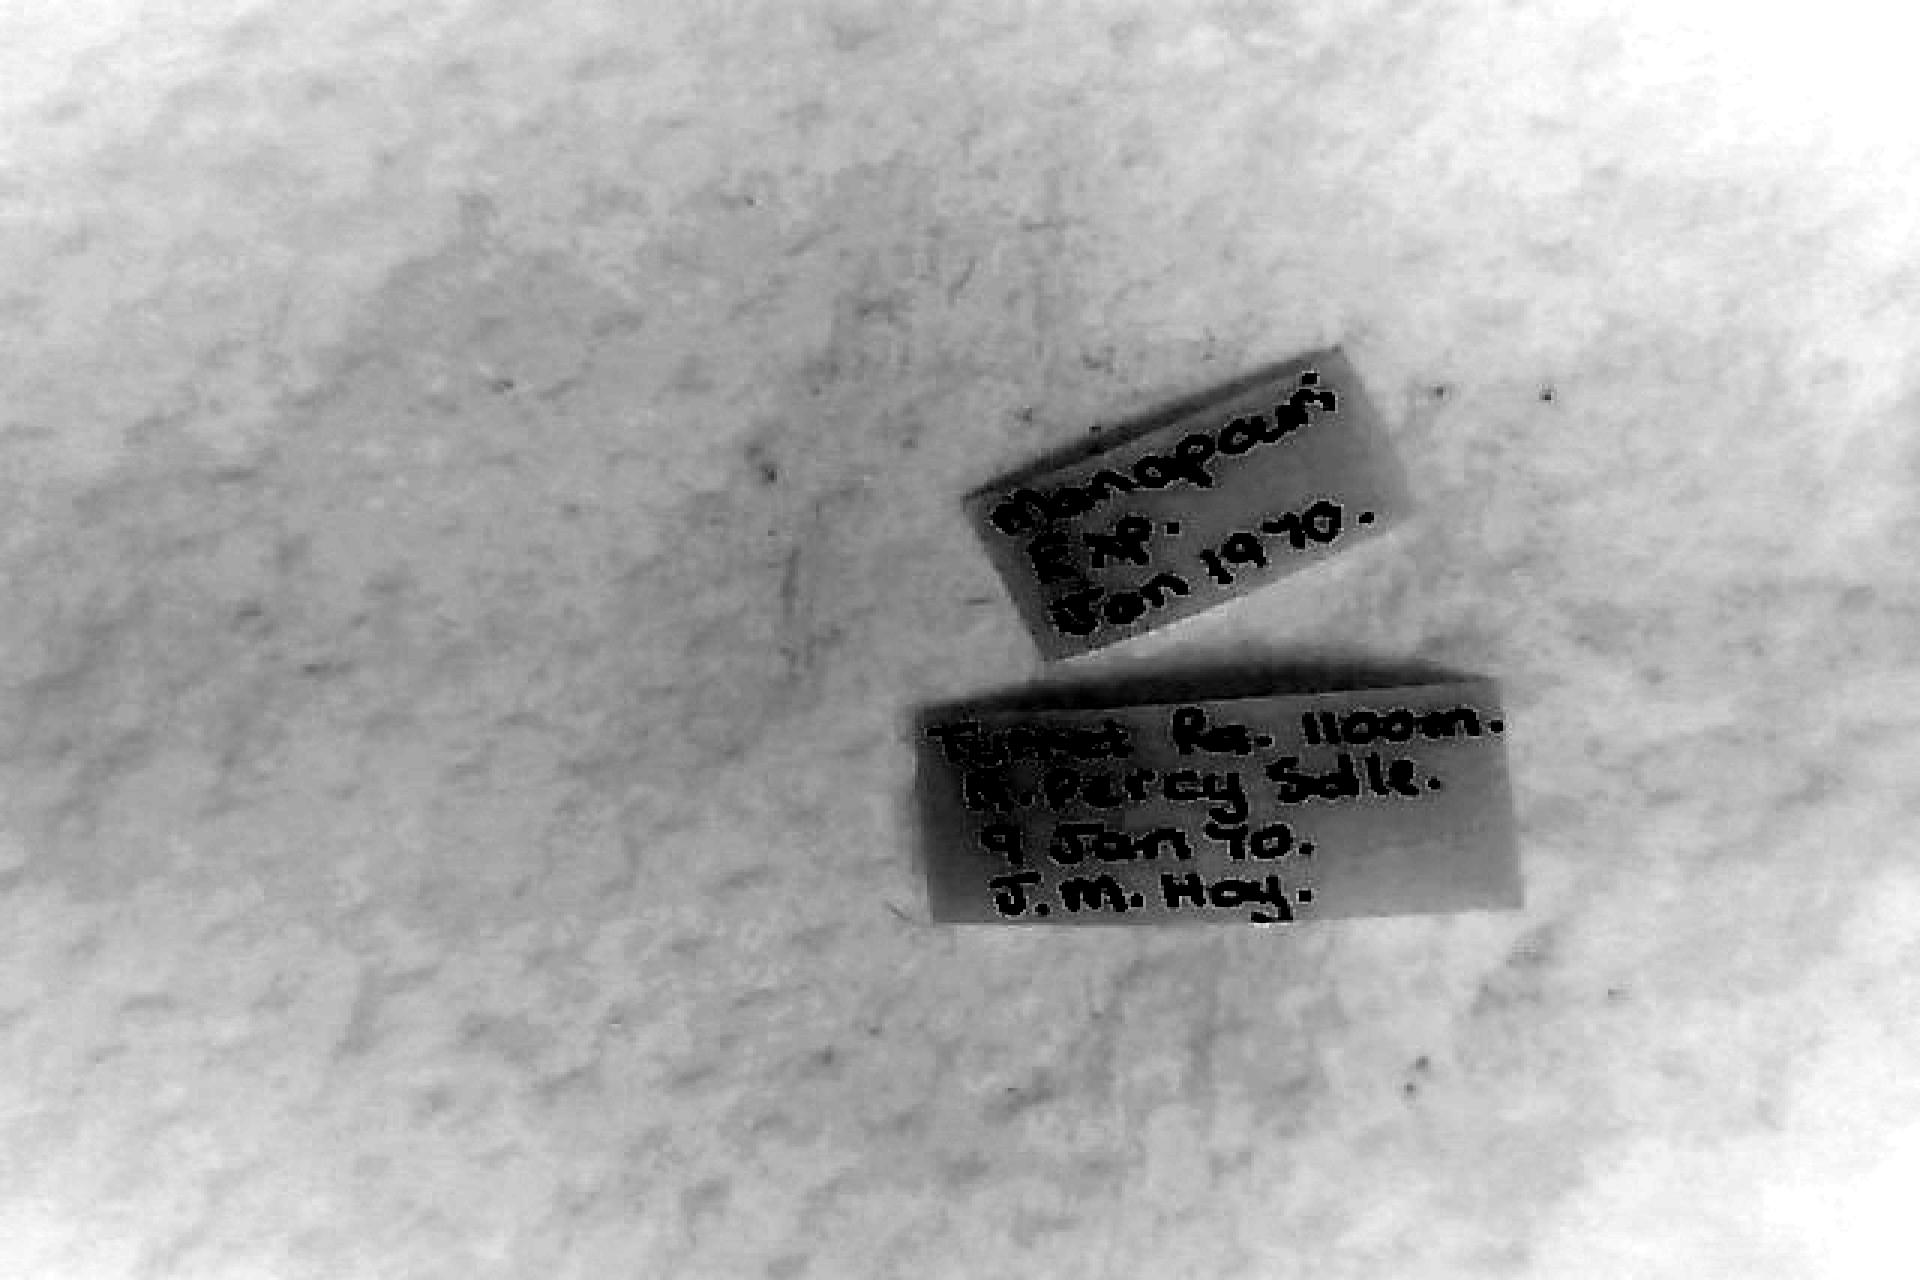hand_label: (919, 687, 1519, 922), (968, 350, 1410, 658)
